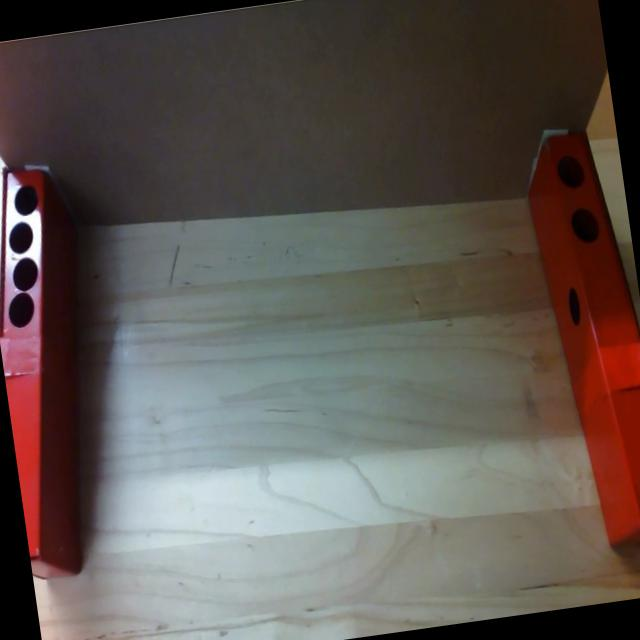Hole: (566, 203, 604, 249), (7, 256, 44, 294), (5, 290, 40, 330), (562, 282, 586, 330), (4, 220, 36, 256), (556, 154, 588, 188), (11, 182, 41, 218)
